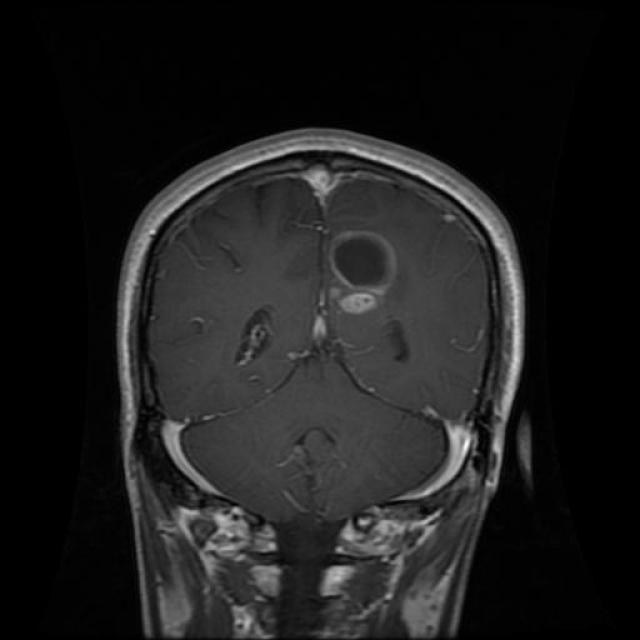glioma: (328, 228, 402, 316)
